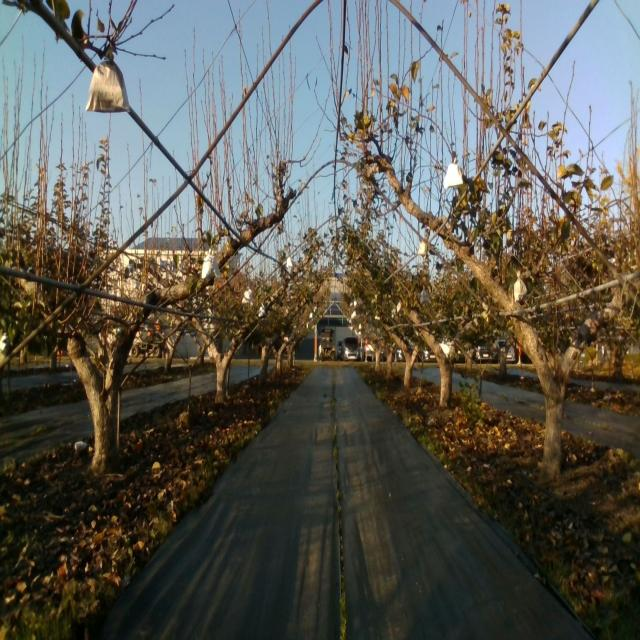pearbags: (83, 50, 130, 114), (200, 248, 222, 281), (442, 156, 463, 190), (513, 270, 528, 302), (241, 286, 254, 306)
